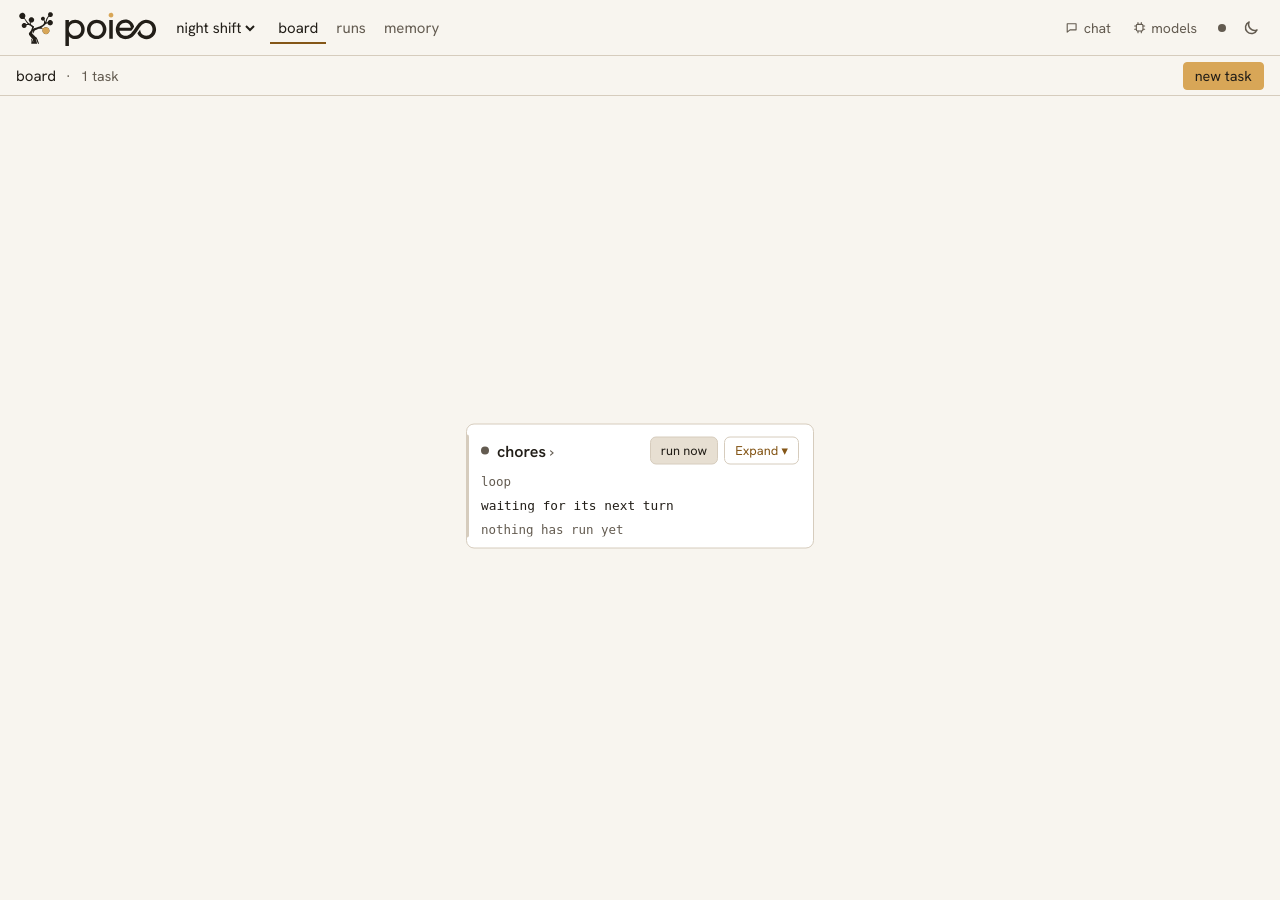
Scenario: opening the panel closes the drawer
Click the button with class "basic-pick" at (562, 450), box [481,440,644,461]
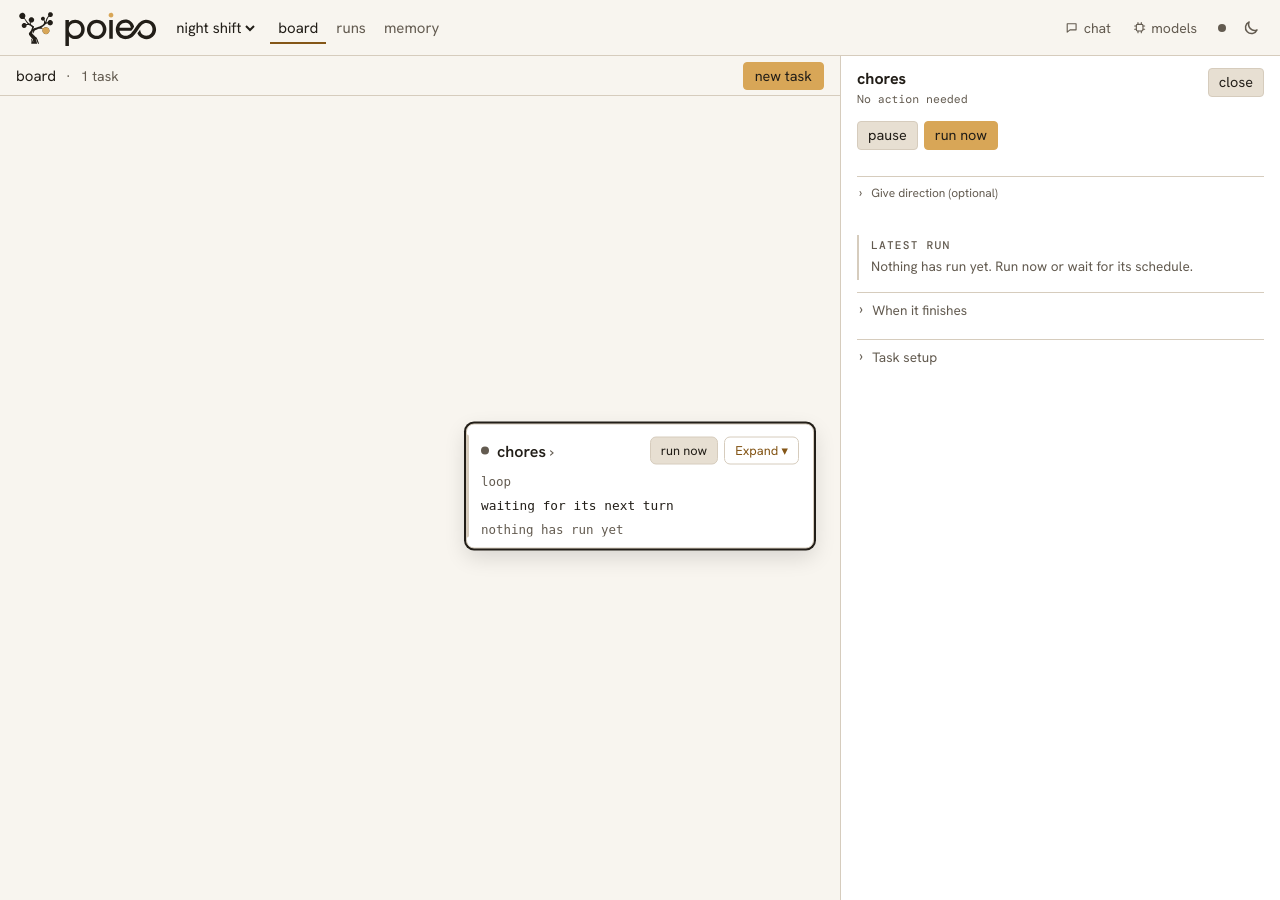
Now the element with class "drawer" is shown, box [840,56,1279,899]
Click the button "models" at (1165, 28), box [1124,14,1206,40]
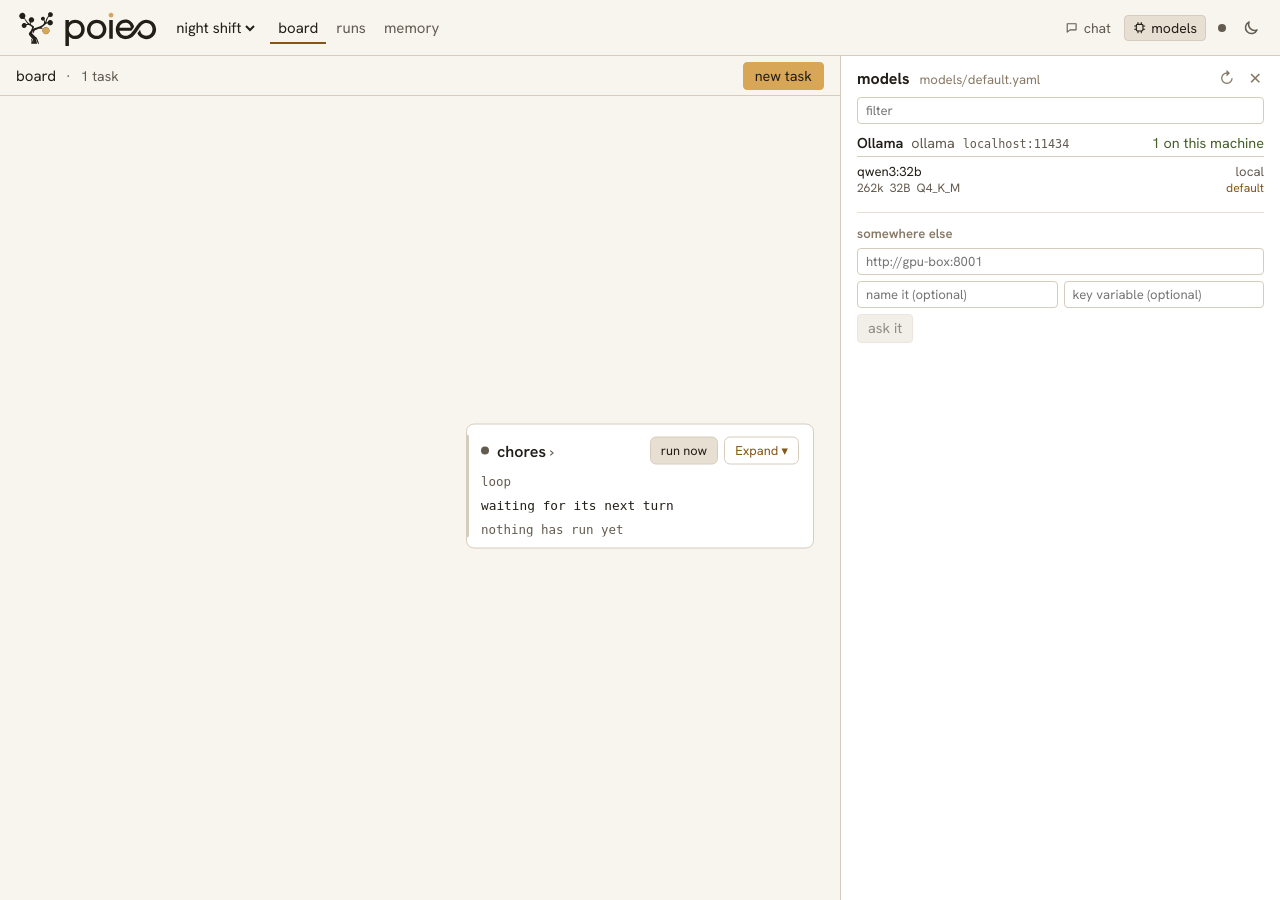
Now the element with class "drawer" is gone
Now the element with class "models" is shown, box [840,56,1279,899]
